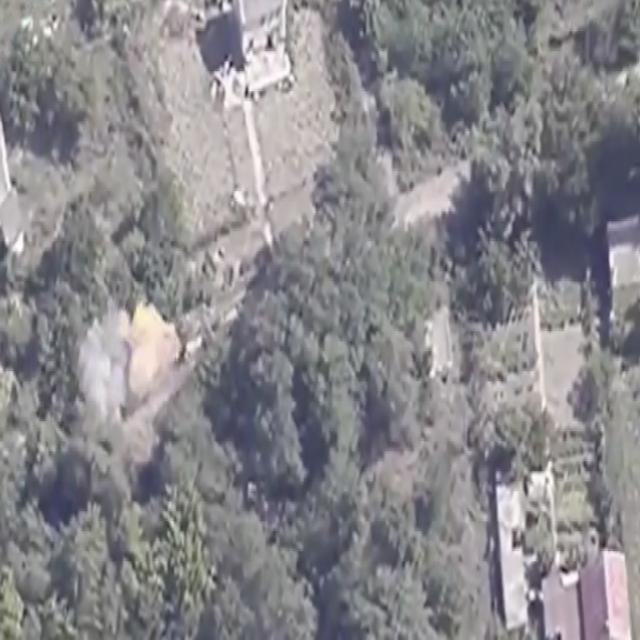vehicle: (170, 302, 218, 361)
